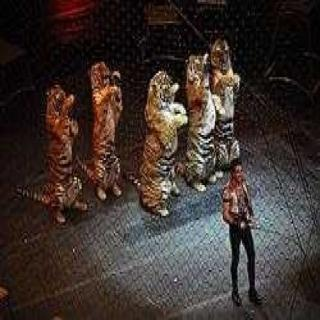Tiger: (137, 66, 189, 222), (79, 56, 132, 204), (39, 75, 90, 228), (178, 45, 221, 193), (206, 32, 248, 164)
